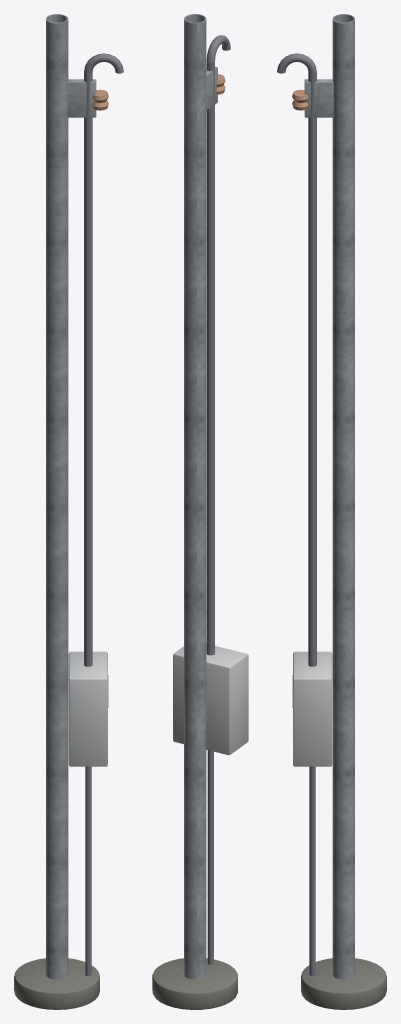
The model's file is ELE-ENT-001_anim.glb.
The picture shows the model from 3 angles, left to right: view 1: azimuth 90°, elevation 25°; view 2: azimuth 150°, elevation 25°; view 3: azimuth 270°, elevation 25°; orthographic projection.
Parts seen in each view (by area): view 1: ELE-ENT-001_anim0; view 2: ELE-ENT-001_anim0; view 3: ELE-ENT-001_anim0.
Part boxes in pixels (x1=…): ELE-ENT-001_anim0: x1=14, y1=14, x2=123, y2=1009; ELE-ENT-001_anim0: x1=152, y1=14, x2=248, y2=1009; ELE-ENT-001_anim0: x1=277, y1=14, x2=386, y2=1009.
Bounding box in the file's own units: 0.44 × 5.5 × 0.5619.
7 materials, 2 textured.
